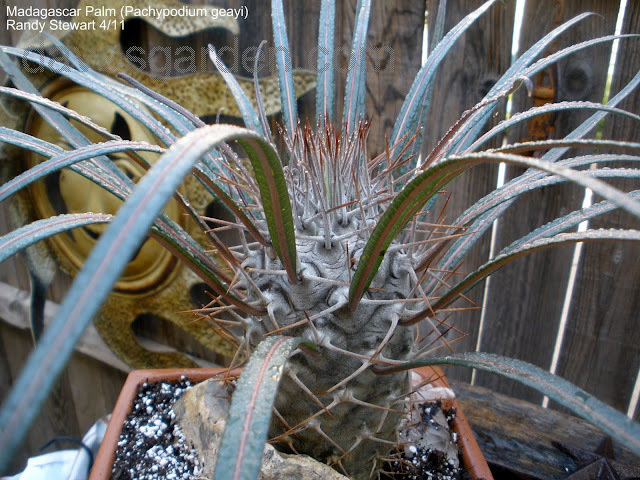Pachypodium geayi: (209, 128, 469, 458)
